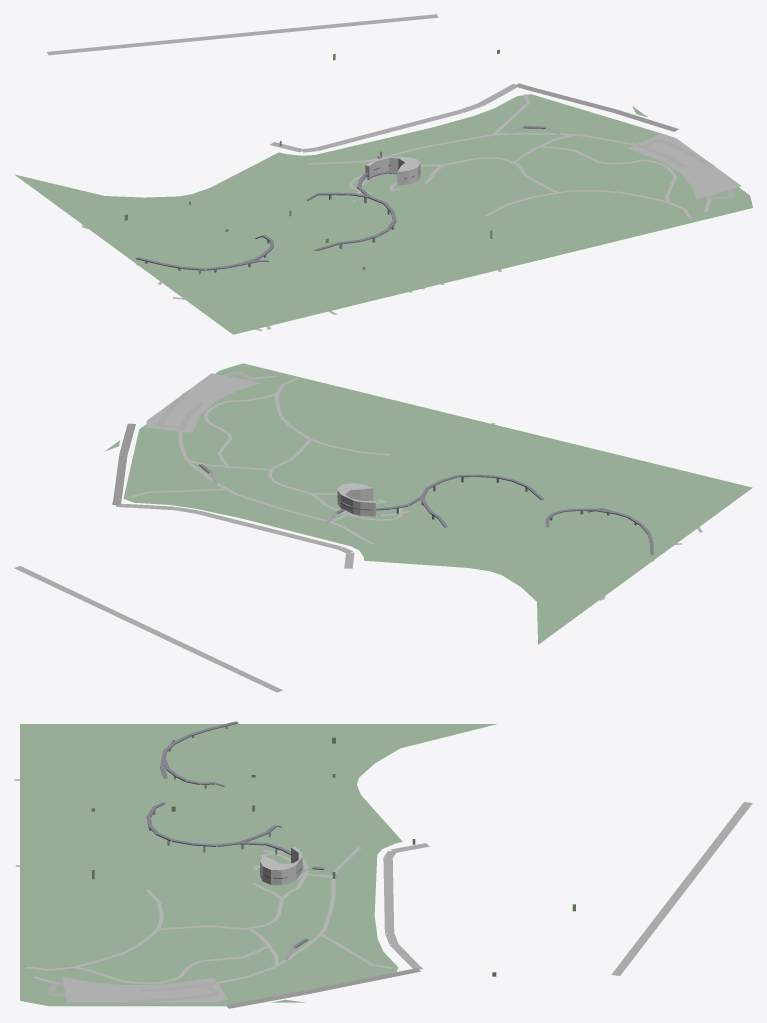
The picture shows the model from 3 angles, top to bottom: view 1: azimuth 30°, elevation 25°; view 2: azimuth 150°, elevation 25°; view 3: azimuth 270°, elevation 25°; orthographic projection. The views are drawn at different scales.
Size of the model in its own units: 516 by 15.93 by 553.
